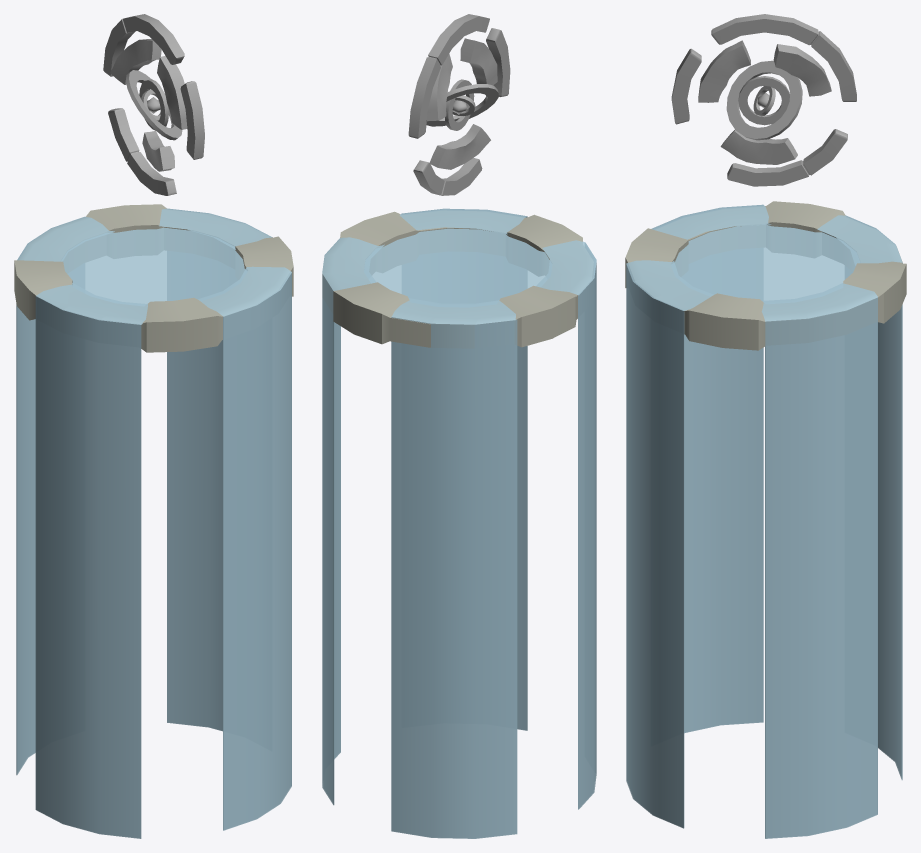
File: WaterFallRocks.fbx
3 renders of one model, left to right at view 1: azimuth 30°, elevation 25°; view 2: azimuth 150°, elevation 25°; view 3: azimuth 270°, elevation 25°, orthographic.
Visible parts, largest first — view 1: polySurface11, polySurface8, polySurface9, LargeStone, polySurface10, WaterPool, Outerstones, HardStones, InternalOut, InternaMid; view 2: polySurface10, LargeStone, polySurface11, polySurface8, polySurface9, WaterPool, Outerstones, HardStones, InternalOut, InternaMid; view 3: polySurface9, polySurface11, polySurface8, LargeStone, polySurface10, WaterPool, Outerstones, HardStones, InternalOut, InternaMid.
Boxes of the visible parts, <box> form: polySurface11: <box>35,283,147,838</box>; polySurface8: <box>198,266,291,830</box>; polySurface9: <box>159,208,272,731</box>; LargeStone: <box>14,204,293,352</box>; polySurface10: <box>16,216,114,775</box>; WaterPool: <box>62,227,244,303</box>; Outerstones: <box>103,14,204,195</box>; HardStones: <box>110,39,187,171</box>; InternalOut: <box>125,70,182,140</box>; InternaMid: <box>139,79,168,130</box>; polySurface10: <box>391,298,517,838</box>; LargeStone: <box>323,211,593,347</box>; polySurface11: <box>536,240,596,809</box>; polySurface8: <box>399,208,527,730</box>; polySurface9: <box>322,237,384,805</box>; WaterPool: <box>369,228,549,303</box>; Outerstones: <box>408,14,510,195</box>; HardStones: <box>427,38,497,169</box>; InternalOut: <box>426,84,498,126</box>; InternaMid: <box>445,79,474,130</box>; polySurface9: <box>761,283,877,838</box>; polySurface11: <box>651,204,771,733</box>; polySurface8: <box>626,260,713,828</box>; LargeStone: <box>625,201,906,350</box>; polySurface10: <box>817,215,902,780</box>; WaterPool: <box>674,224,855,300</box>; Outerstones: <box>671,14,856,186</box>; HardStones: <box>698,40,831,164</box>; InternalOut: <box>726,60,802,140</box>; InternaMid: <box>738,76,789,125</box>.
Size of the model in its own units: 88.59 by 266 by 88.59.
